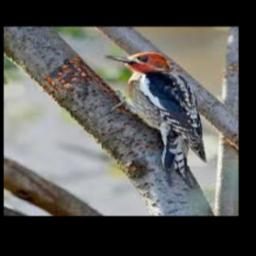Woodpecker: (105, 52, 206, 188)
